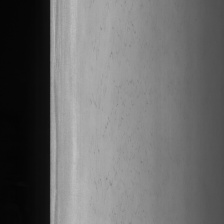silk_spot: (85, 7, 150, 203)
